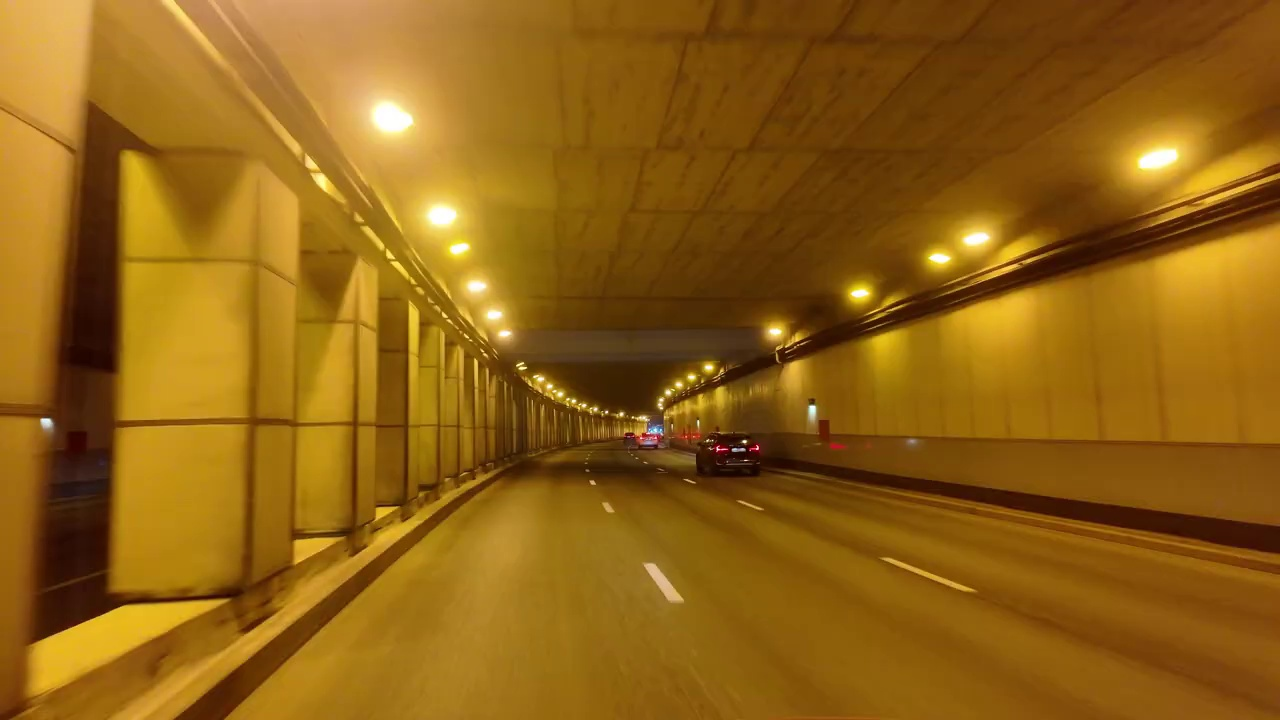acesa: (348, 88, 422, 147), (927, 221, 999, 271), (409, 193, 467, 246), (454, 269, 506, 326), (1128, 137, 1188, 185), (949, 221, 999, 264), (458, 272, 495, 302), (843, 277, 877, 309), (761, 316, 793, 347)
